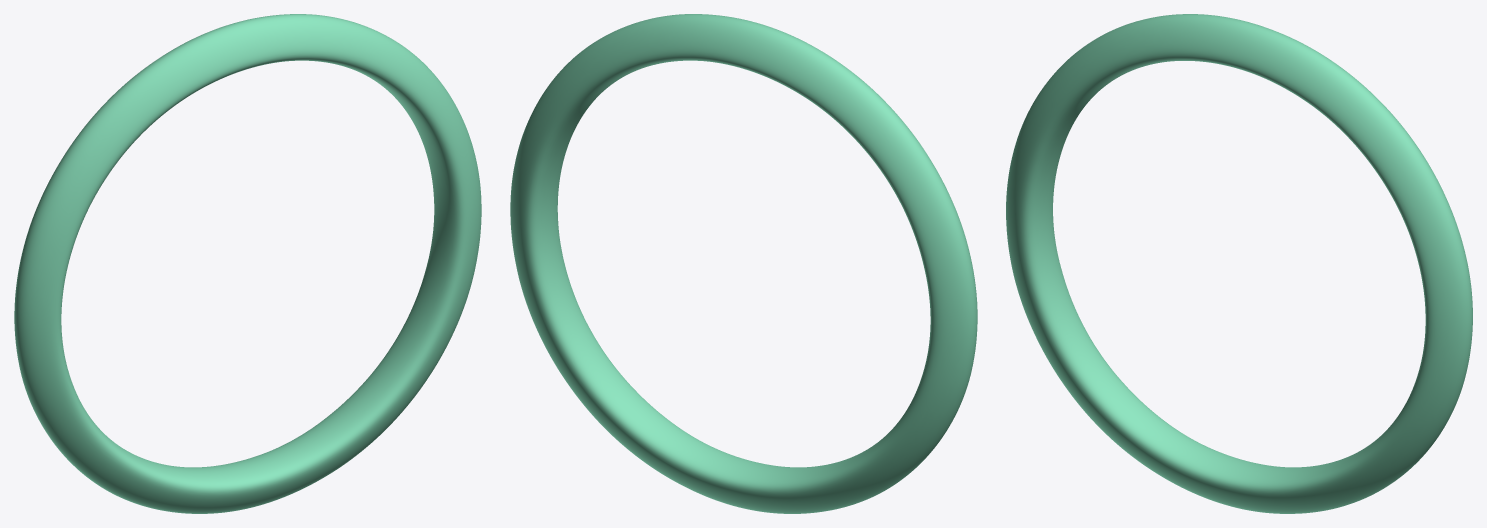
3 renders of one model, left to right at view 1: azimuth 30°, elevation 25°; view 2: azimuth 150°, elevation 25°; view 3: azimuth 330°, elevation 25°, orthographic.
Visible parts, largest first — view 1: Metal03; view 2: Metal03; view 3: Metal03.
Part boxes in pixels (x1,y1,x2,y2): Metal03: (14, 14, 481, 513); Metal03: (510, 14, 977, 513); Metal03: (1006, 14, 1472, 513).
Bounding box in the file's own units: 20.82 × 20.85 × 2.09.
